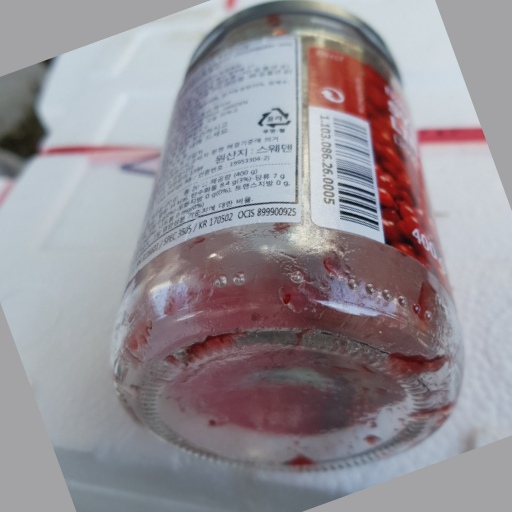Glass_5: (110, 3, 466, 472)
